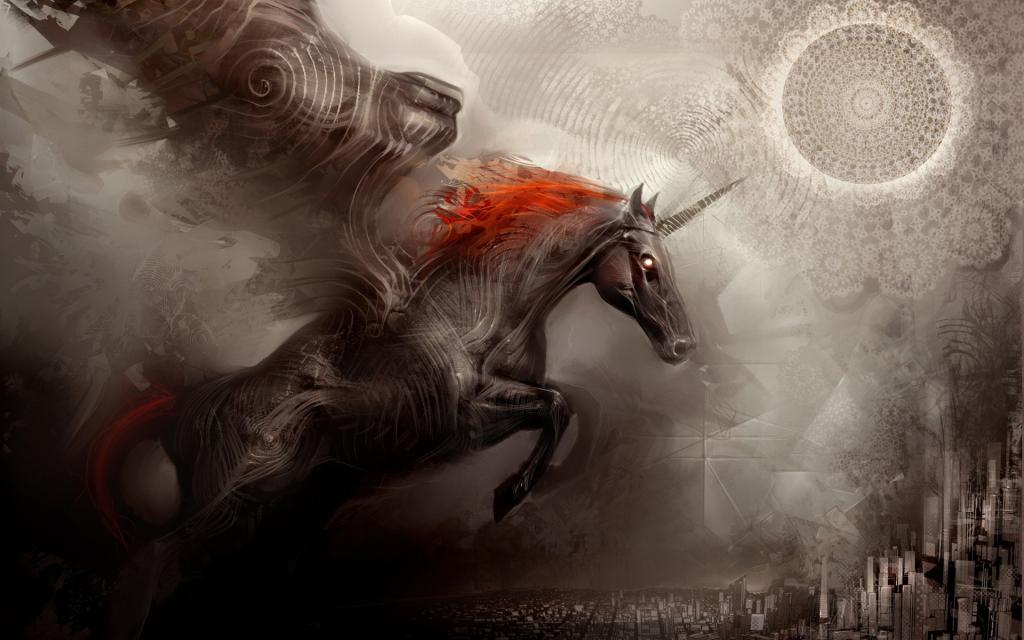background: (3, 2, 709, 622)
